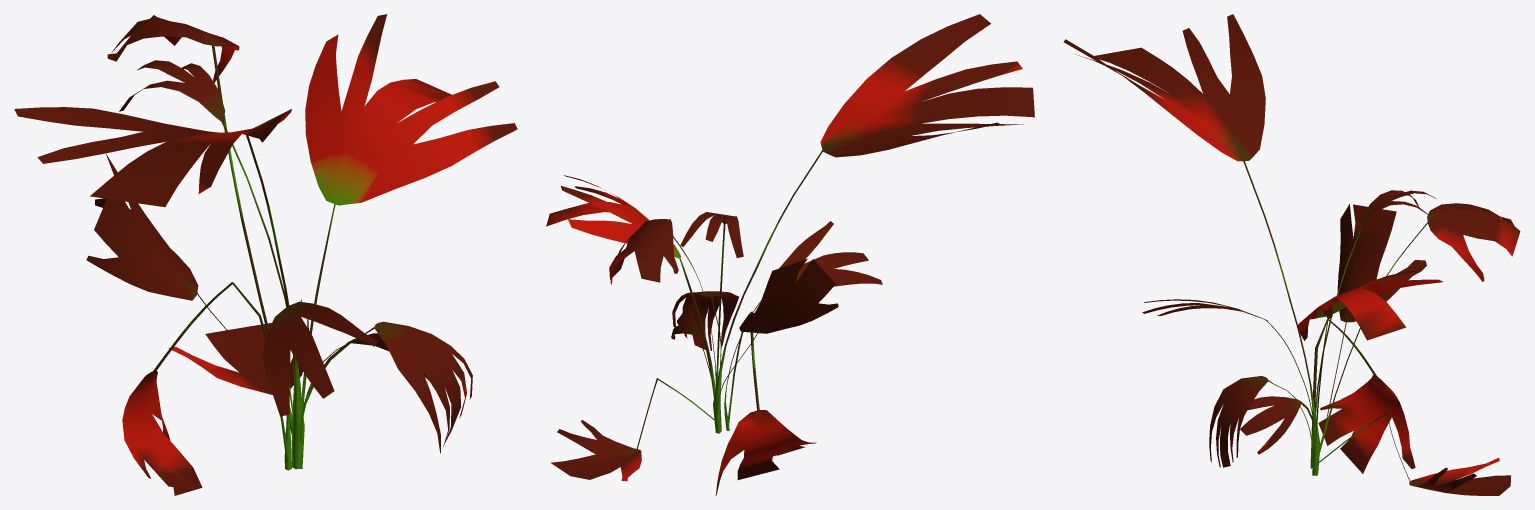
Rendered from Var2_LOD0.fbx.
The picture shows the model from 3 angles, left to right: view 1: azimuth 30°, elevation 25°; view 2: azimuth 150°, elevation 25°; view 3: azimuth 270°, elevation 25°; orthographic projection. The views are drawn at different scales.
Visible parts, largest first — view 1: _347a_Var2_LOD0; view 2: _347a_Var2_LOD0; view 3: _347a_Var2_LOD0.
Part boxes in pixels (x1=…): _347a_Var2_LOD0: x1=14, y1=14, x2=517, y2=495; _347a_Var2_LOD0: x1=546, y1=14, x2=1034, y2=495; _347a_Var2_LOD0: x1=1063, y1=14, x2=1520, y2=495.
Size of the model in its own units: 164 by 153 by 163.
